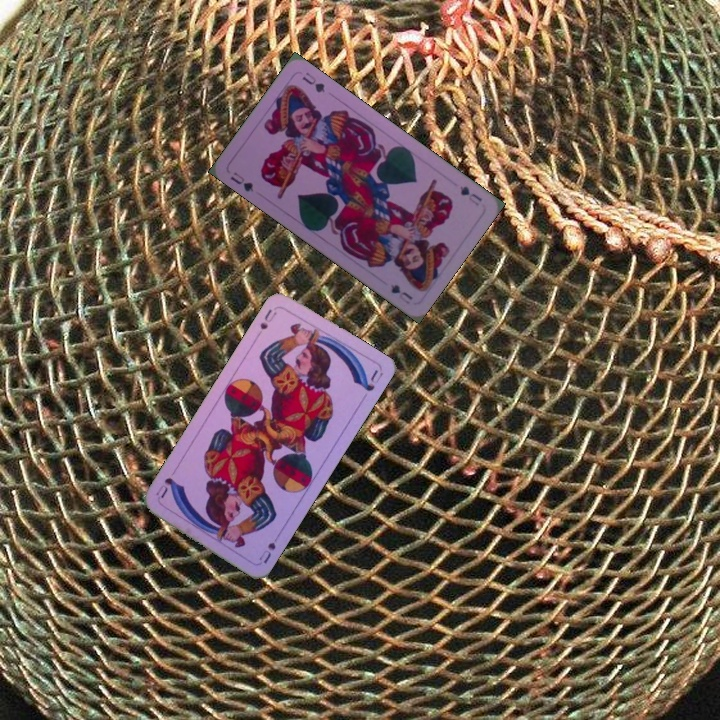GU: (226, 168, 256, 195), (455, 182, 485, 208)
SU: (255, 528, 282, 566), (252, 305, 279, 340)
